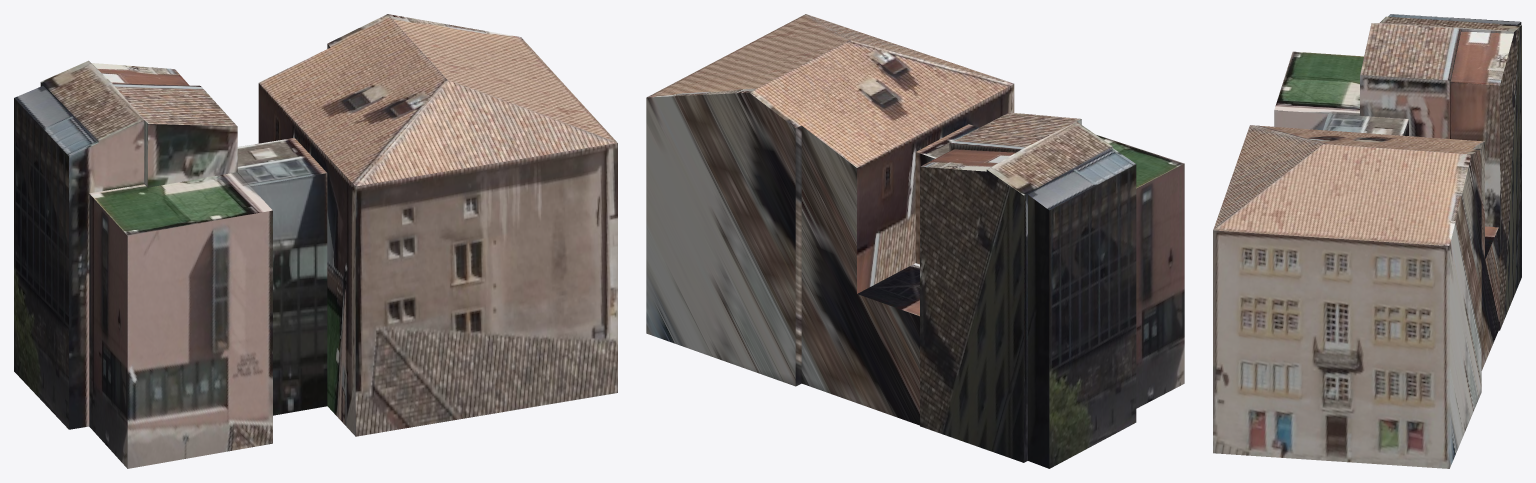
3 views of the same model, side by side, from view 1: azimuth 30°, elevation 25°; view 2: azimuth 150°, elevation 25°; view 3: azimuth 270°, elevation 25° (orthographic). The views are drawn at different scales.
Parts seen in each view (by area): view 1: Z_UP; view 2: Z_UP; view 3: Z_UP.
Boxes of the visible parts, left/top/right/bottom form: Z_UP: left=14, top=14, right=617, bottom=468; Z_UP: left=646, top=14, right=1184, bottom=468; Z_UP: left=1213, top=14, right=1521, bottom=468.
Size of the model in its own units: 30.4 by 17.79 by 18.78.
2 materials, 1 textured.
